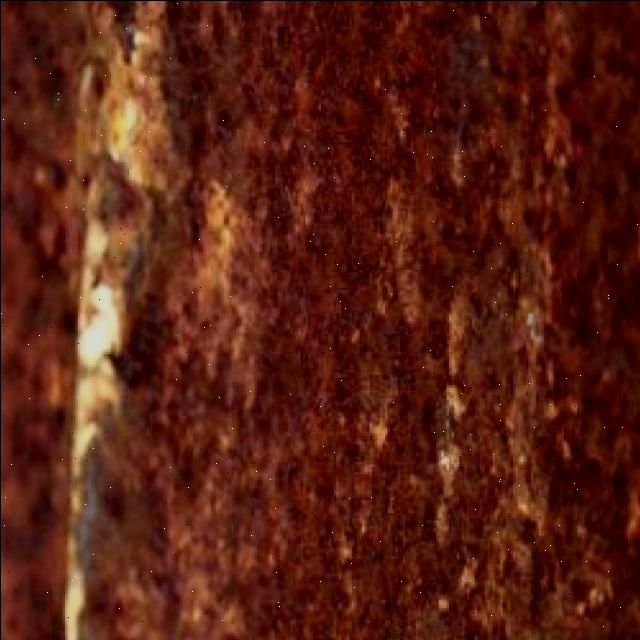corrosion: (124, 22, 288, 636), (2, 5, 98, 630)
crack: (56, 10, 173, 633)
dampens: (114, 220, 153, 308), (104, 3, 151, 63), (185, 200, 207, 248)
